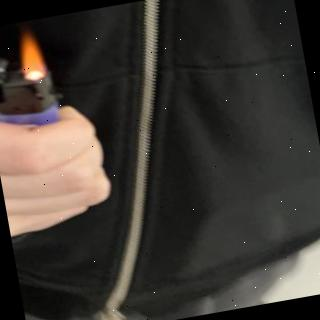fire: (12, 31, 52, 84)
